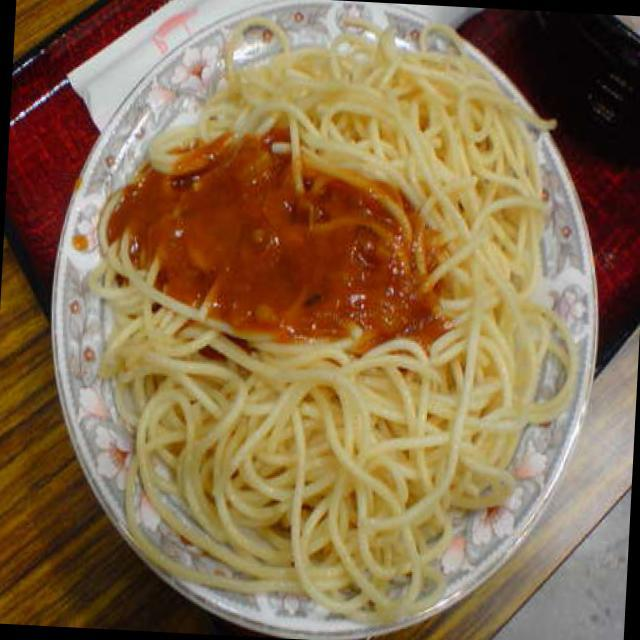Pasta: (54, 9, 610, 613)
